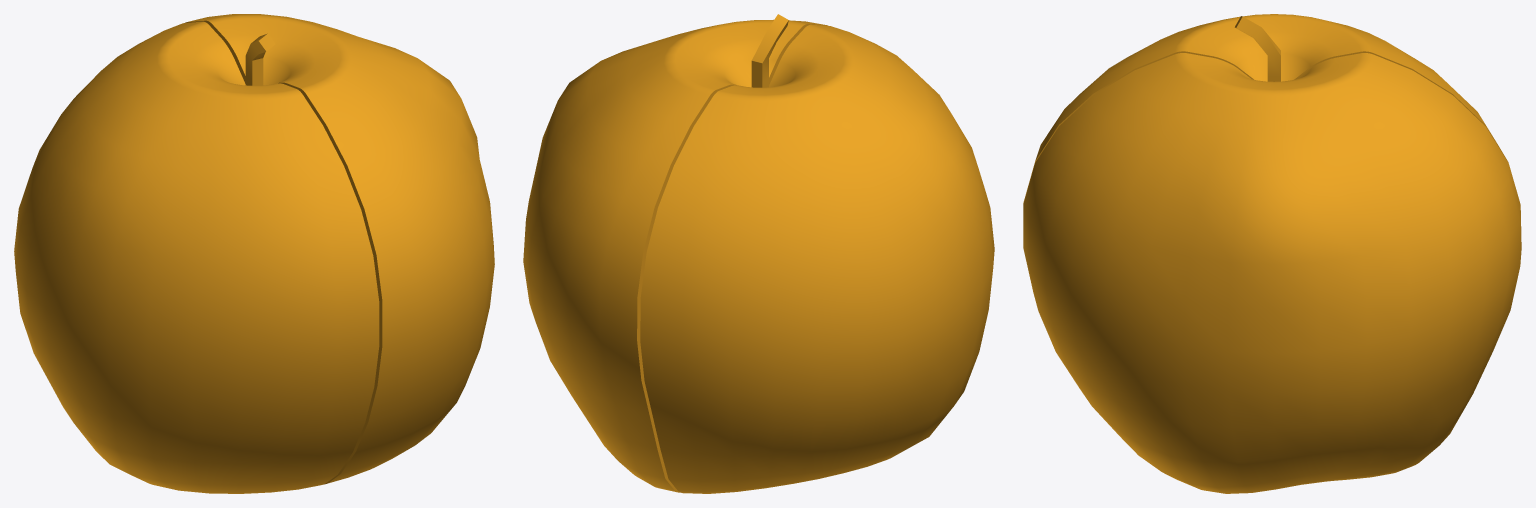
File: elma.fbx
3 renders of one model, left to right at view 1: azimuth 30°, elevation 25°; view 2: azimuth 150°, elevation 25°; view 3: azimuth 270°, elevation 25°, orthographic. The views are drawn at different scales.
Visible parts, largest first — view 1: Sphere.001, Sphere.002; view 2: Sphere.001, Sphere.002; view 3: Sphere.002, Sphere.001.
Part boxes in pixels (x1,y1,x2,y2): Sphere.001: [14, 21, 379, 493]; Sphere.002: [185, 14, 494, 484]; Sphere.001: [640, 14, 994, 493]; Sphere.002: [523, 19, 828, 492]; Sphere.002: [1023, 51, 1521, 493]; Sphere.001: [1035, 14, 1504, 160].
Bounding box in the file's own units: 55.14 × 54.61 × 57.38.
